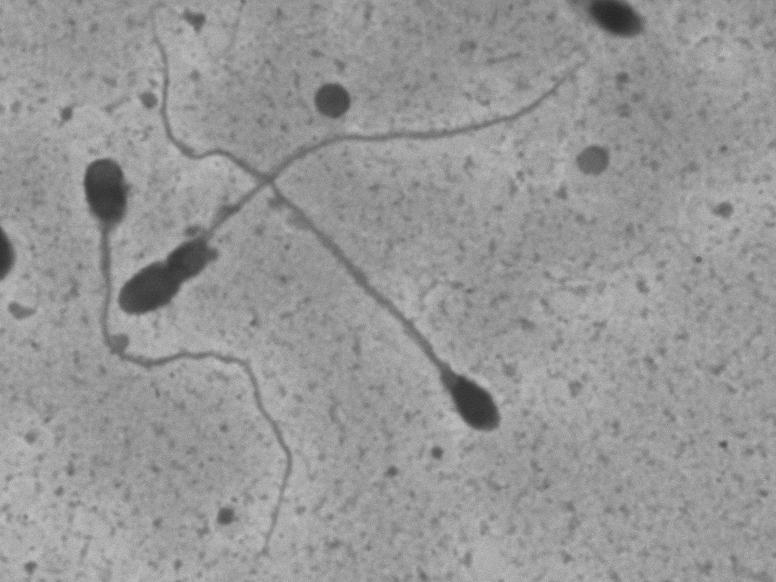Abnormal: (66, 142, 323, 575), (367, 243, 539, 490), (107, 183, 261, 339)
